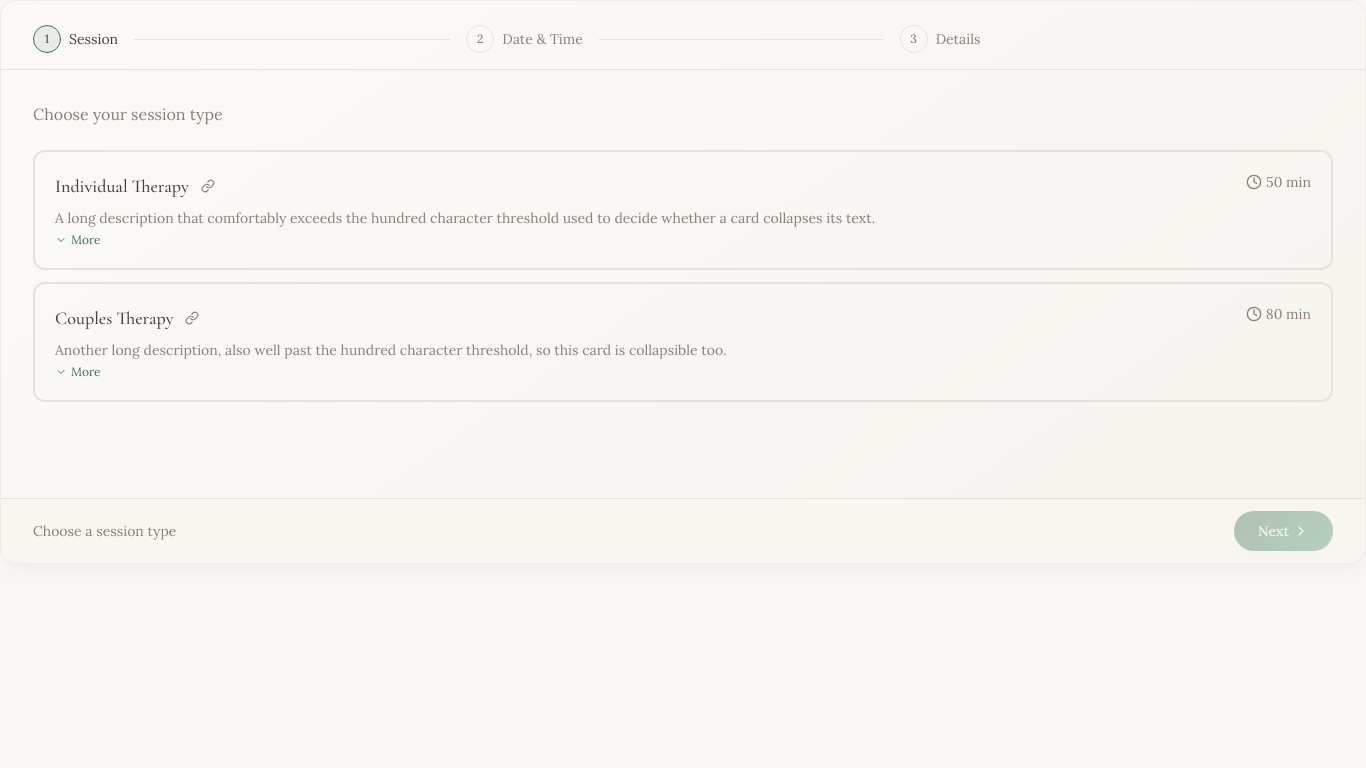
6a — sticky action bar › names what is missing on the date step
This screenshot has width=1366, height=768.
Click the radio button that starts with "Individual Therapy" at {"x": 683, "y": 210}, box [33,150,1333,270]
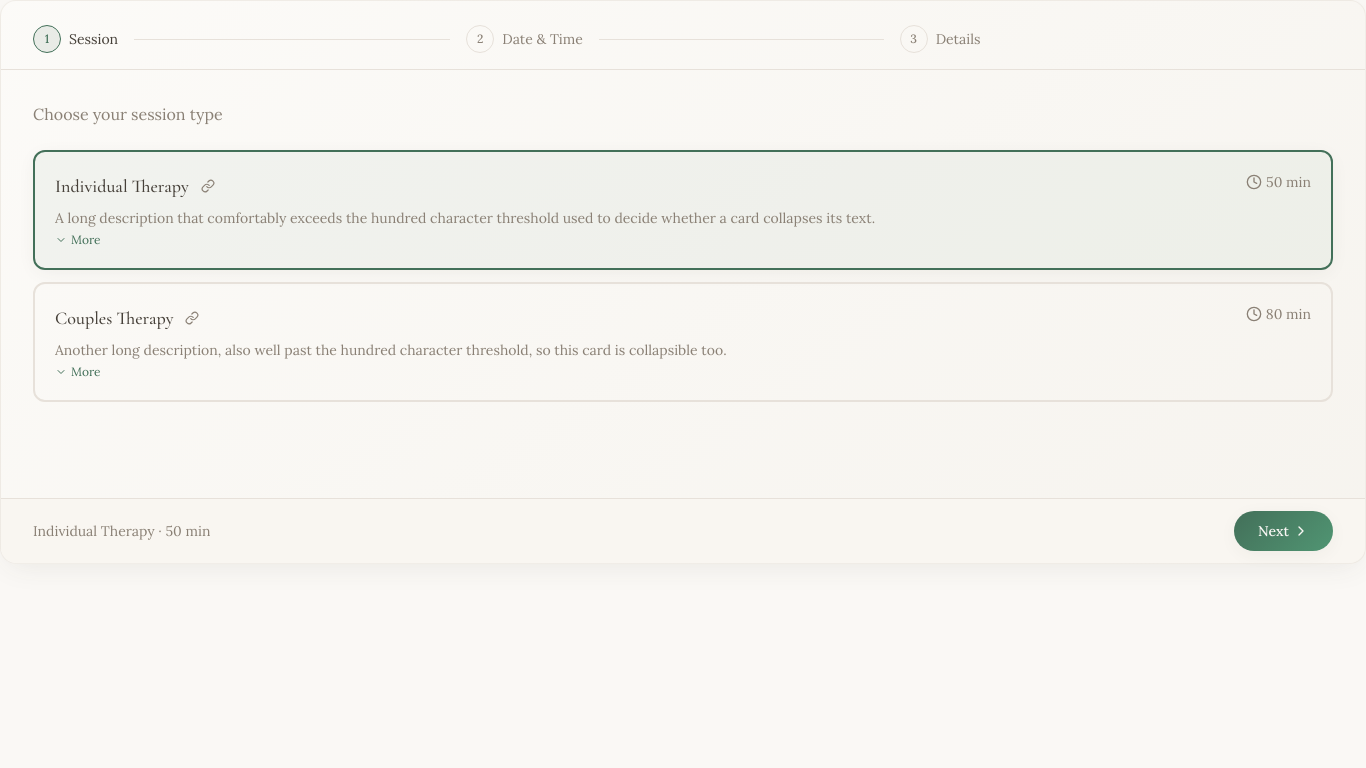
Click the button "Next" at {"x": 1283, "y": 531}, box [1234,511,1333,551]
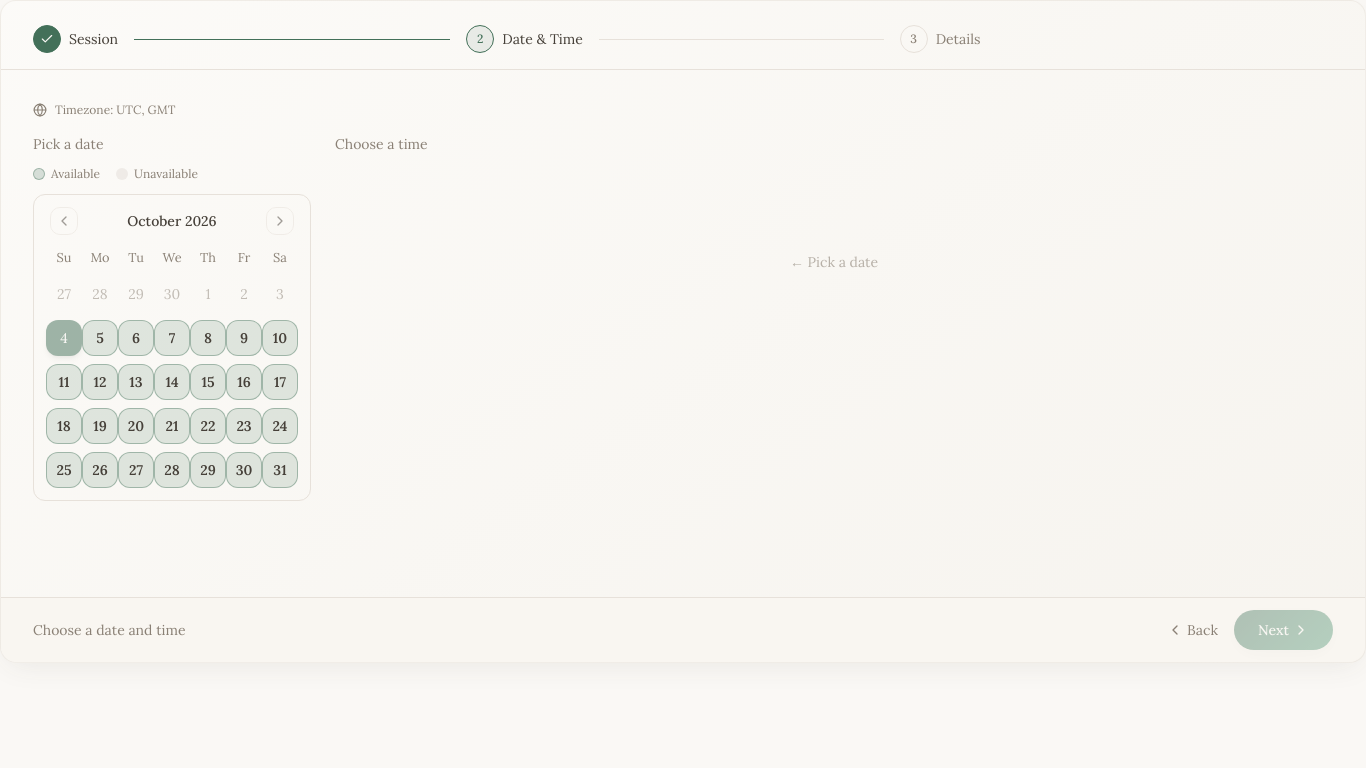
expect the text with test id "bar-summary" reads "Choose a date and time": met, box [33,621,186,639]
expect the button "Next" is disabled: met, box [1234,610,1333,650]
